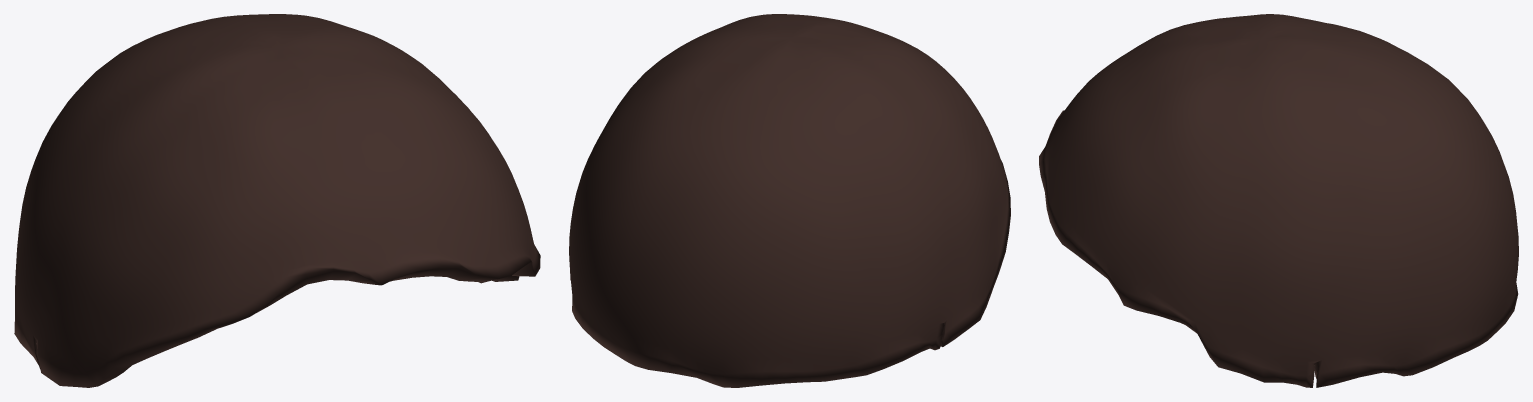
The model's file is 4HT-masculino.glb.
3 renders of one model, left to right at view 1: azimuth 30°, elevation 25°; view 2: azimuth 150°, elevation 25°; view 3: azimuth 270°, elevation 25°, orthographic. The views are drawn at different scales.
Parts seen in each view (by area): view 1: sculpted-scalp; view 2: sculpted-scalp; view 3: sculpted-scalp.
Part boxes in pixels (<box>): sculpted-scalp: <box>14,14,540,387</box>; sculpted-scalp: <box>569,14,1010,387</box>; sculpted-scalp: <box>1039,14,1518,387</box>.
Bounding box in the file's own units: 0.0312 × 0.0205 × 0.0333.
